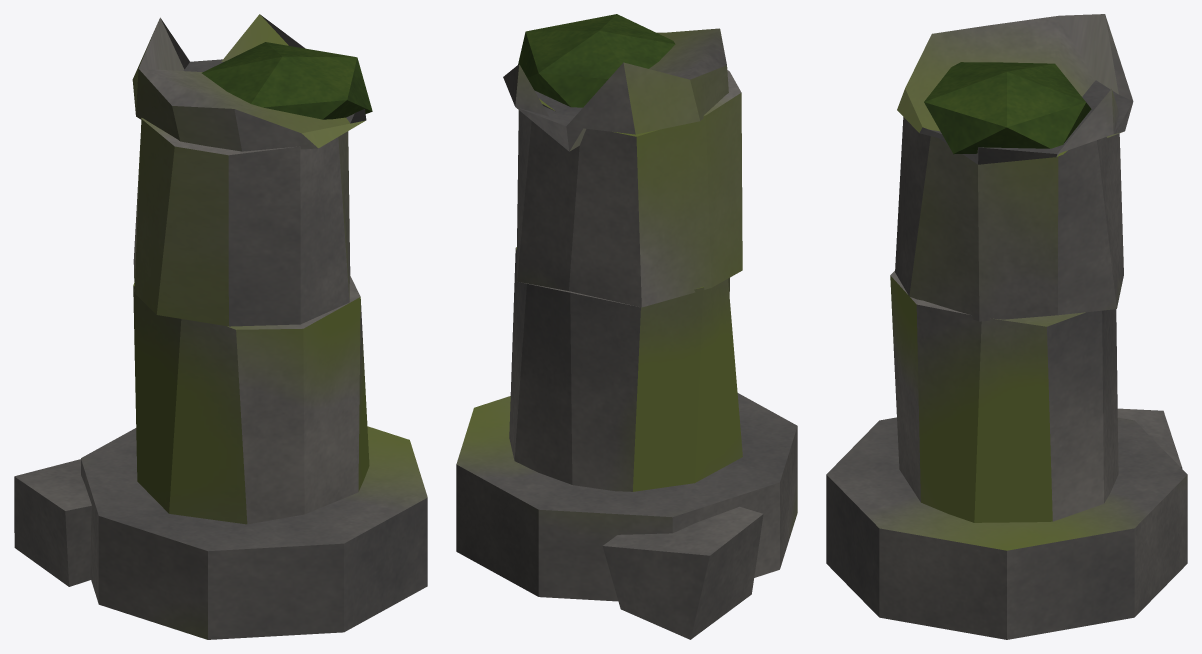
The model's file is pillar_ruin.glb.
The picture shows the model from 3 angles, left to right: view 1: azimuth 30°, elevation 25°; view 2: azimuth 150°, elevation 25°; view 3: azimuth 270°, elevation 25°; orthographic projection. The views are drawn at different scales.
Parts seen in each view (by area): view 1: pillar_ruin_3; view 2: pillar_ruin_3; view 3: pillar_ruin_3.
Boxes of the visible parts, x1,y1,x2,y2 form: pillar_ruin_3: (14,14,427,639); pillar_ruin_3: (456,14,797,639); pillar_ruin_3: (826,14,1187,639).
Bounding box in the file's own units: 1.13 × 1.8 × 1.1.
Materials: 2 (2 with a texture image).
